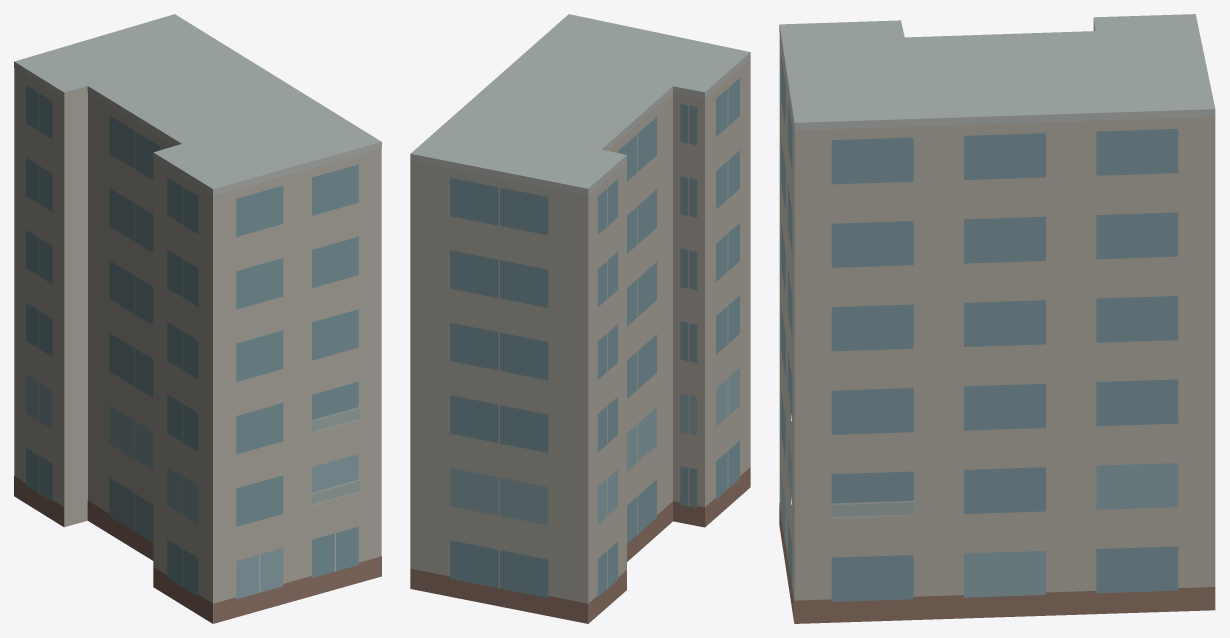
Rendered from survey-upis-32892431.glb.
The picture shows the model from 3 angles, left to right: view 1: azimuth 30°, elevation 25°; view 2: azimuth 150°, elevation 25°; view 3: azimuth 270°, elevation 25°; orthographic projection. The views are drawn at different scales.
Parts seen in each view (by area): view 1: survey-upis-32892431.tmp; view 2: survey-upis-32892431.tmp; view 3: survey-upis-32892431.tmp.
Part boxes in pixels (x1,y1,x2,y2): survey-upis-32892431.tmp: (14,14,381,623); survey-upis-32892431.tmp: (410,14,750,623); survey-upis-32892431.tmp: (779,14,1215,623).
Size of the model in its own units: 7.51 by 16.1 by 12.7.
